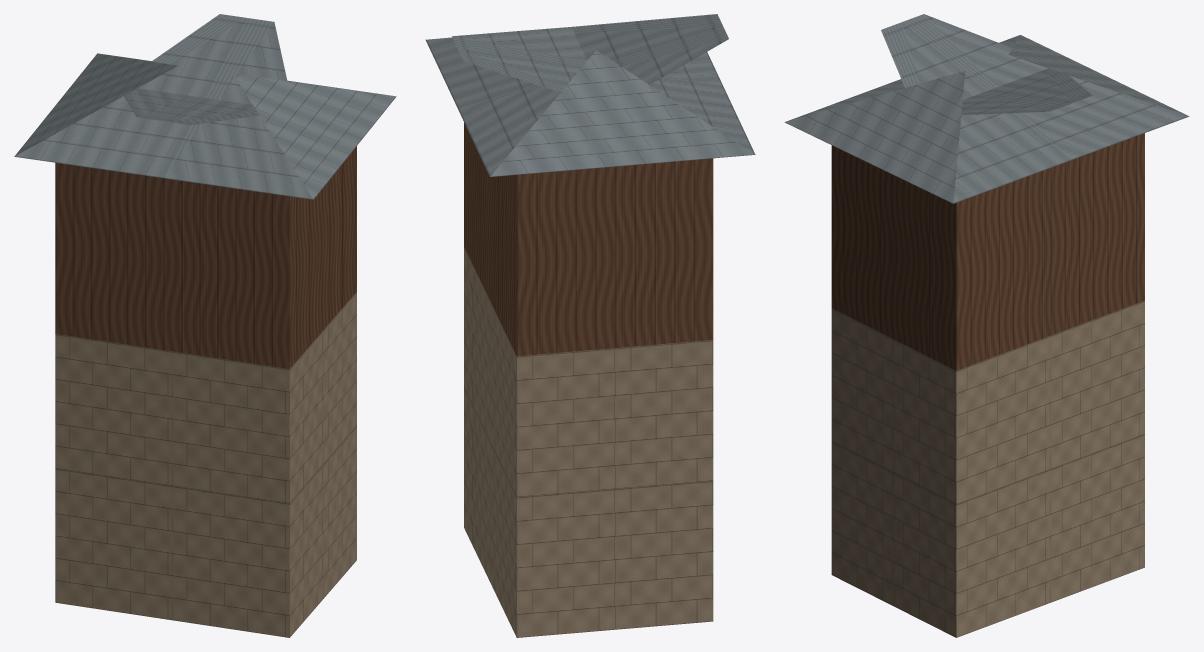
File: bld_c9_19_424.gltf
3 renders of one model, left to right at view 1: azimuth 30°, elevation 25°; view 2: azimuth 150°, elevation 25°; view 3: azimuth 270°, elevation 25°, orthographic. The views are drawn at different scales.
Visible parts, largest first — view 1: bld_c9_19_424; view 2: bld_c9_19_424; view 3: bld_c9_19_424.
Part boxes in pixels (<box>): bld_c9_19_424: <box>14,14,396,637</box>; bld_c9_19_424: <box>425,14,755,637</box>; bld_c9_19_424: <box>784,14,1189,637</box>.
Bounding box in the file's own units: 6.41 × 9 × 6.5.
3 materials, 3 textured.
